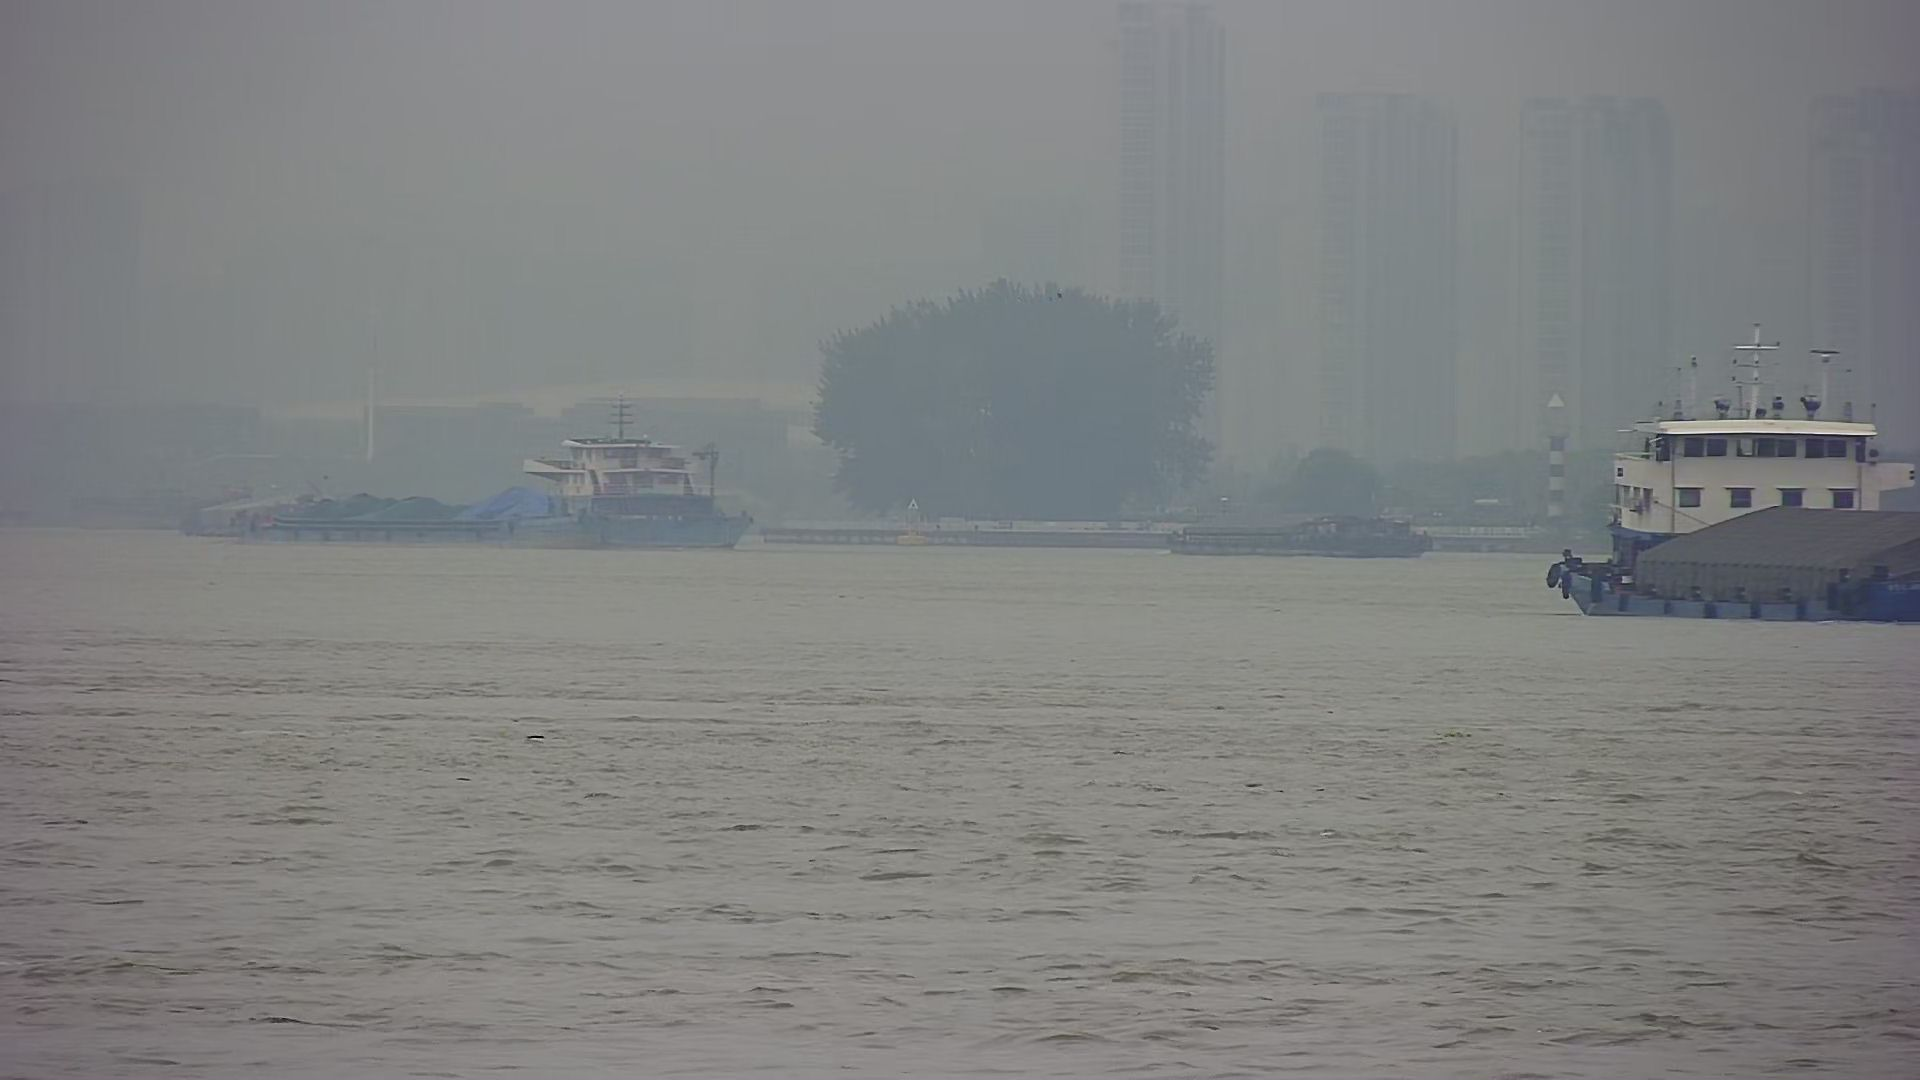ship: (1538, 313, 1917, 630), (239, 378, 765, 549), (1129, 492, 1465, 564)
